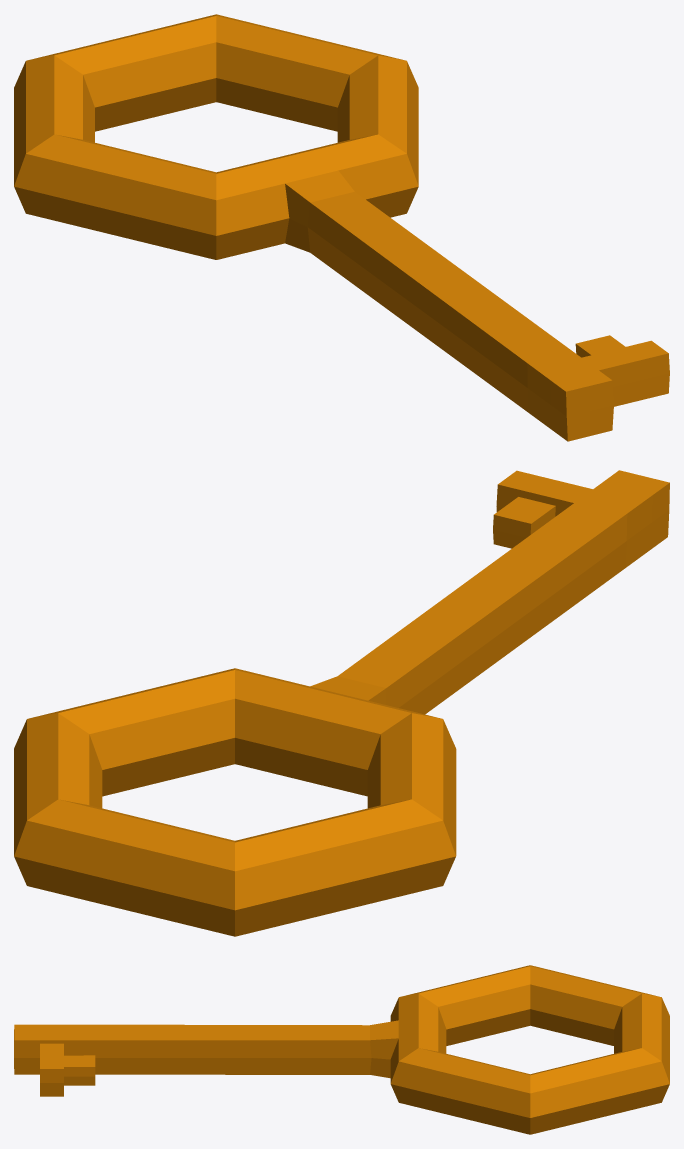
The model's file is Key.obj.
3 renders of one model, top to bottom at view 1: azimuth 30°, elevation 25°; view 2: azimuth 150°, elevation 25°; view 3: azimuth 270°, elevation 25°, orthographic. The views are drawn at different scales.
Visible parts, largest first — view 1: Torus; view 2: Torus; view 3: Torus.
Part boxes in pixels (left/top/right/bottom): Torus: left=14, top=14, right=669, bottom=441; Torus: left=14, top=470, right=669, bottom=936; Torus: left=14, top=965, right=669, bottom=1134.
Bounding box in the file's own units: 2.5 × 0.5 × 5.08.
